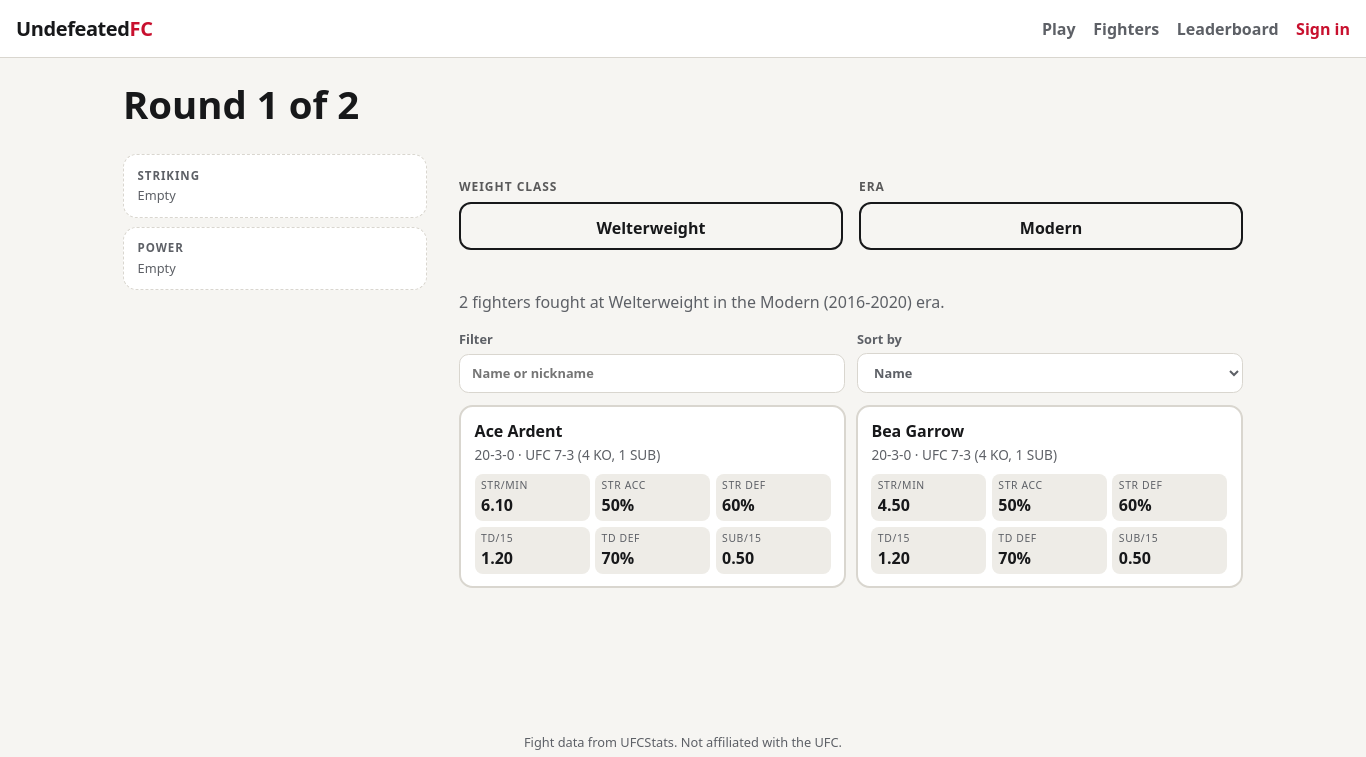
Test: a refused pick keeps the pool open and shows why
Step 1. Click the button "Bea Garrow" → (1049, 496), box [856,405,1243,588]
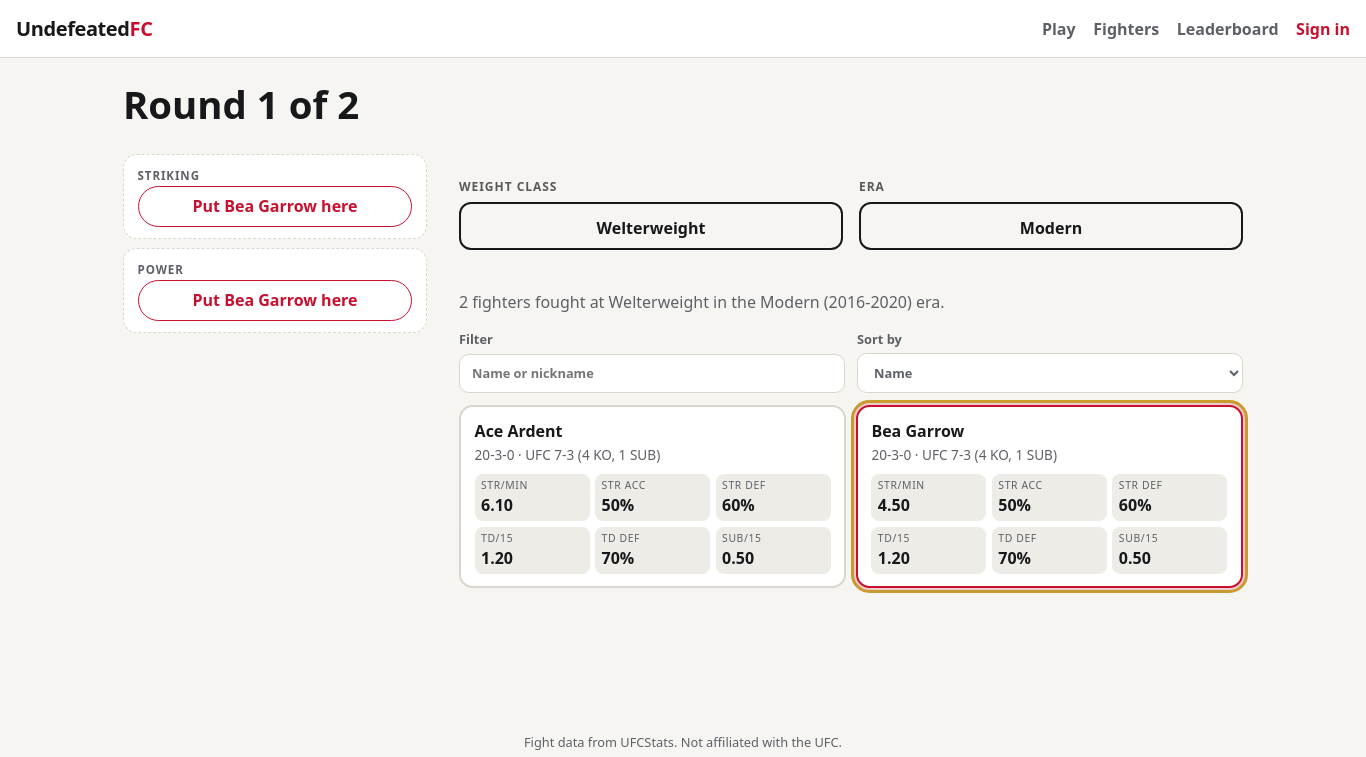
Step 2. Click the button "Put Bea Garrow here" below "Power" → (275, 300), box [138,280,412,321]
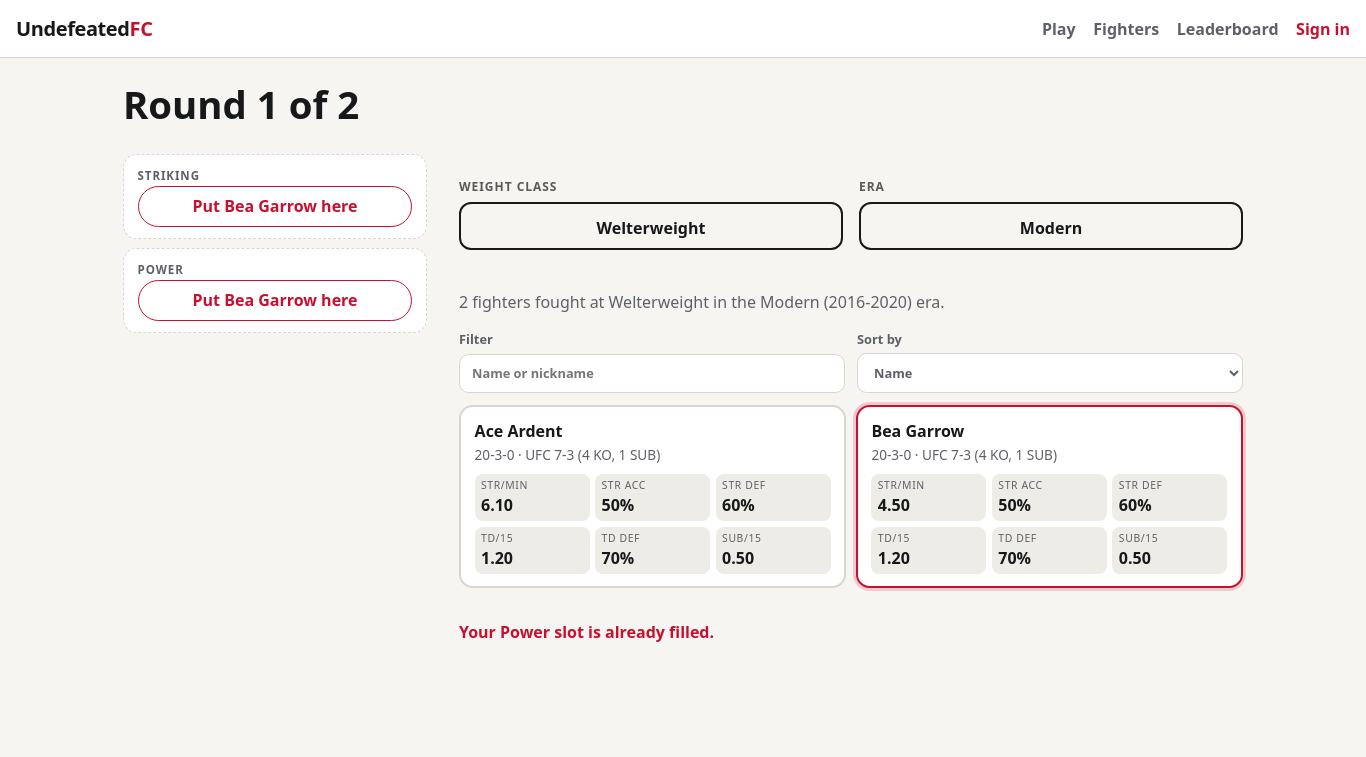
Expected: the message reads "Your Power slot is already filled.", [459,621,714,643]
